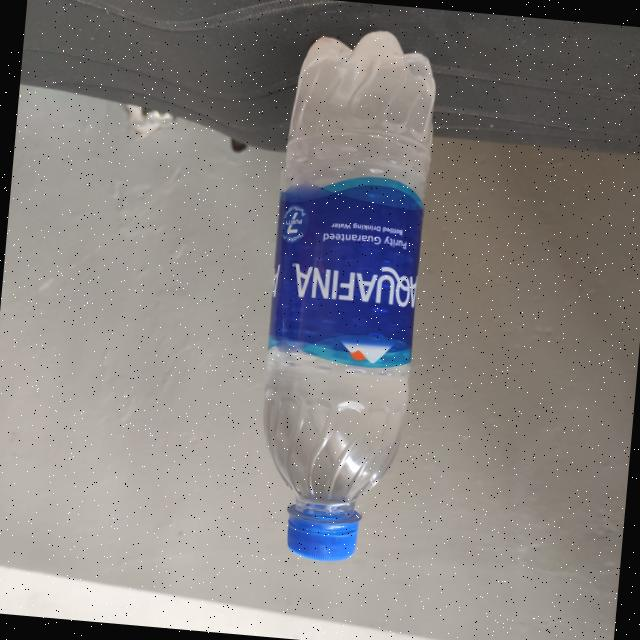bottle: (238, 18, 446, 594)
cap: (270, 499, 362, 570)
label: (260, 167, 430, 360)
